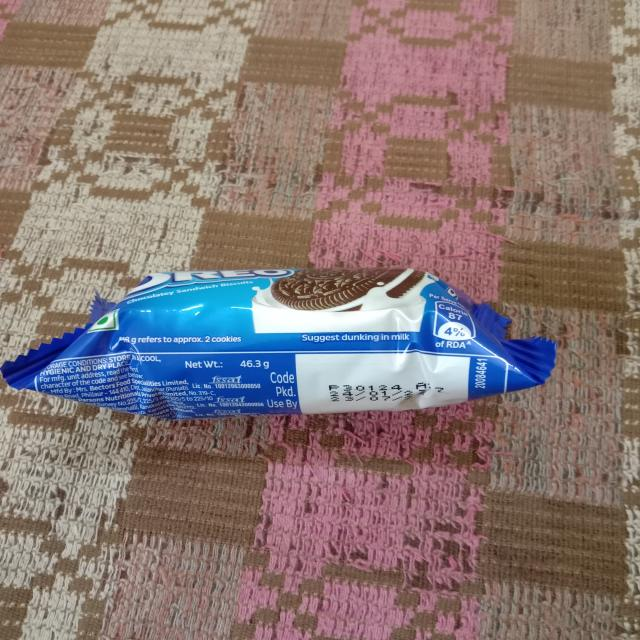oreo biscuit: (13, 273, 562, 427)
